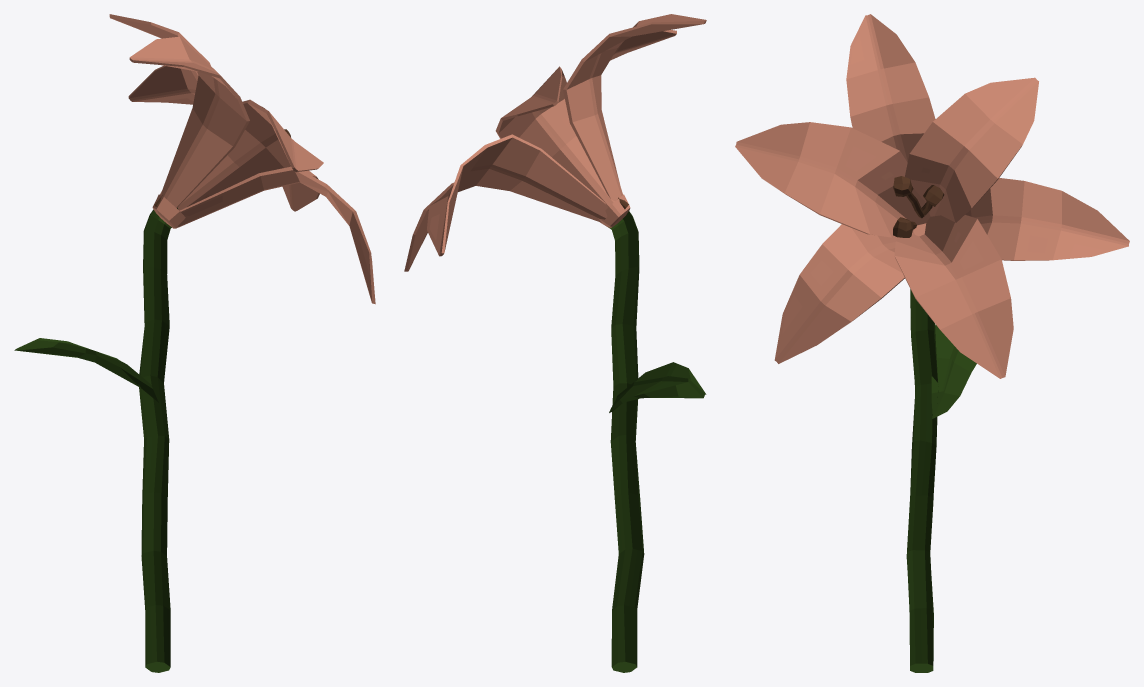
File: lily.glb
3 views of the same model, side by side, from view 1: azimuth 30°, elevation 25°; view 2: azimuth 150°, elevation 25°; view 3: azimuth 270°, elevation 25° (orthographic). The views are drawn at different scales.
Visible parts, largest first — view 1: Stem.001, Cube.003, Cube.001, Cube.002, Leaf_R.001, Cube, Cube.006; view 2: Cube.003, Stem.001, Cube, Leaf_R.001, Cube.001, Cube.006; view 3: Cube.001, Cube.003, Cube, Cube.002, Stem.001, Leaf_R.001.
Boxes of the visible parts, bbox=[...] form: Stem.001: bbox=[138, 208, 177, 672]; Cube.003: bbox=[128, 36, 249, 207]; Cube.001: bbox=[177, 99, 323, 211]; Cube.002: bbox=[177, 166, 375, 304]; Leaf_R.001: bbox=[14, 338, 158, 402]; Cube: bbox=[109, 14, 210, 194]; Cube.006: bbox=[152, 194, 185, 228]; Cube.003: bbox=[427, 14, 706, 256]; Stem.001: bbox=[608, 211, 644, 672]; Cube: bbox=[495, 66, 614, 207]; Leaf_R.001: bbox=[609, 362, 706, 412]; Cube.001: bbox=[404, 30, 676, 271]; Cube.006: bbox=[598, 194, 630, 228]; Cube.001: bbox=[735, 122, 1013, 378]; Cube.003: bbox=[846, 14, 1129, 260]; Cube: bbox=[905, 77, 1038, 222]; Cube.002: bbox=[774, 224, 904, 363]; Stem.001: bbox=[906, 289, 938, 672]; Leaf_R.001: bbox=[931, 324, 976, 418].
Size of the model in its own units: 8.19 by 17.23 by 9.81.
